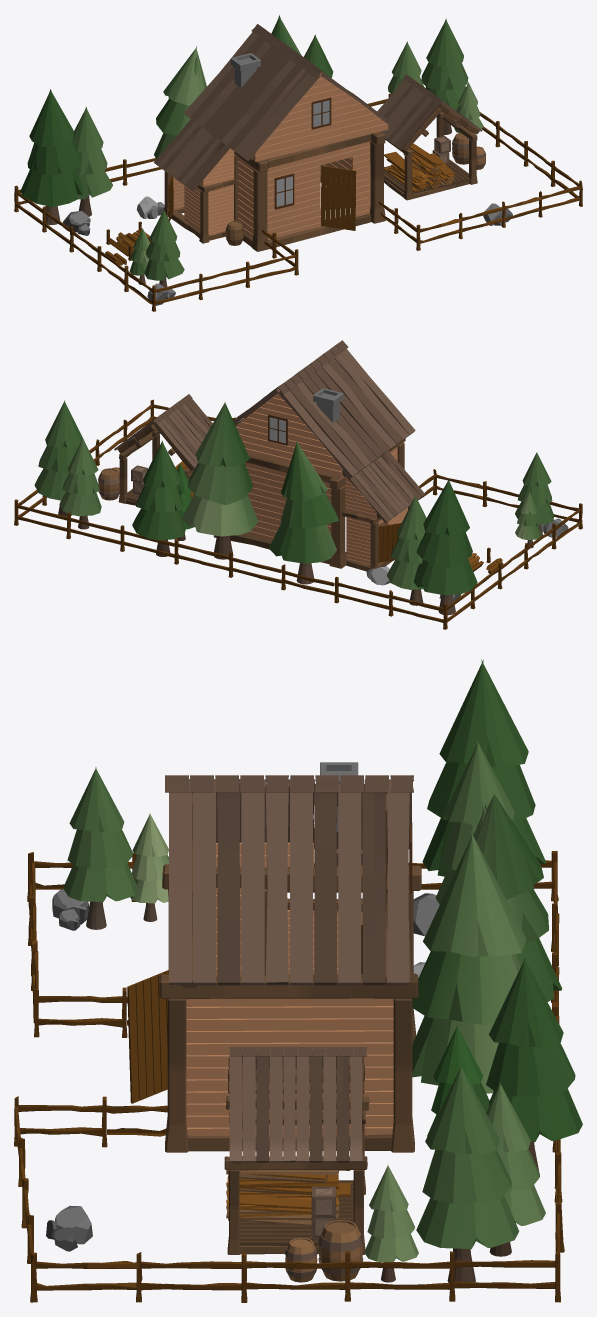
The model's file is low-poly-rustic-town.glb.
3 renders of one model, top to bottom at view 1: azimuth 30°, elevation 25°; view 2: azimuth 150°, elevation 25°; view 3: azimuth 270°, elevation 25°, orthographic. The views are drawn at different scales.
Visible parts, largest first — view 1: Cube.051_56, Cylinder.001_0, Cube.070_74, Cube.056_61, Cube.048_53, Cube.059_64, Cylinder.002_10, Cylinder.010_78, Cube.007_6, Cylinder.007_75, Cube.096_105, Cylinder.013_93 (+31 smaller); view 2: Cube.051_56, Cylinder.008_76, Cylinder.010_78, Cylinder.001_0, Cube.057_62, Cylinder.006_80, Cube.059_64, Cylinder.002_10, Cube.069_73, Cylinder.007_75, Cylinder.011_79, Cube.007_6 (+23 smaller); view 3: Cube.049_54, Cube.094_103, Cylinder.008_76, Cube.006_3, Cube.048_53, Cylinder.002_10, Cylinder.006_80, Cylinder.001_0, Cylinder.013_93, Cylinder.010_78, Cube.096_105, Cube.052_57 (+20 smaller).
Part boxes in pixels (x1,y1,x2,y2): Cube.051_56: [183, 32, 320, 161]; Cylinder.001_0: [20, 89, 83, 224]; Cube.070_74: [267, 141, 370, 239]; Cube.056_61: [254, 72, 388, 161]; Cube.048_53: [168, 131, 385, 248]; Cube.059_64: [154, 119, 229, 191]; Cylinder.002_10: [421, 18, 468, 134]; Cylinder.010_78: [154, 46, 206, 158]; Cube.007_6: [377, 79, 441, 150]; Cylinder.007_75: [72, 107, 112, 216]; Cube.096_105: [321, 165, 356, 230]; Cylinder.013_93: [144, 209, 184, 287]; Cube.051_56: [278, 349, 415, 478]; Cylinder.008_76: [182, 402, 258, 559]; Cylinder.010_78: [268, 440, 338, 584]; Cylinder.001_0: [413, 479, 477, 615]; Cube.057_62: [236, 392, 342, 477]; Cylinder.006_80: [132, 440, 185, 556]; Cube.059_64: [342, 451, 425, 523]; Cylinder.002_10: [34, 400, 83, 516]; Cube.069_73: [244, 462, 331, 540]; Cylinder.007_75: [387, 495, 426, 605]; Cylinder.011_79: [59, 438, 101, 529]; Cube.007_6: [154, 398, 212, 469]; Cube.049_54: [169, 784, 409, 985]; Cube.094_103: [186, 998, 393, 1136]; Cylinder.008_76: [412, 831, 526, 1093]; Cube.006_3: [229, 1051, 362, 1162]; Cube.048_53: [159, 804, 418, 1152]; Cylinder.002_10: [416, 1064, 519, 1282]; Cylinder.006_80: [486, 958, 582, 1170]; Cylinder.001_0: [422, 659, 545, 876]; Cylinder.013_93: [63, 767, 138, 929]; Cylinder.010_78: [452, 794, 561, 1001]; Cube.096_105: [127, 970, 168, 1103]; Cube.052_57: [165, 775, 413, 792].
Bounding box in the file's own units: 153 × 56.23 × 89.47.
Materials: 9 (5 with a texture image).
